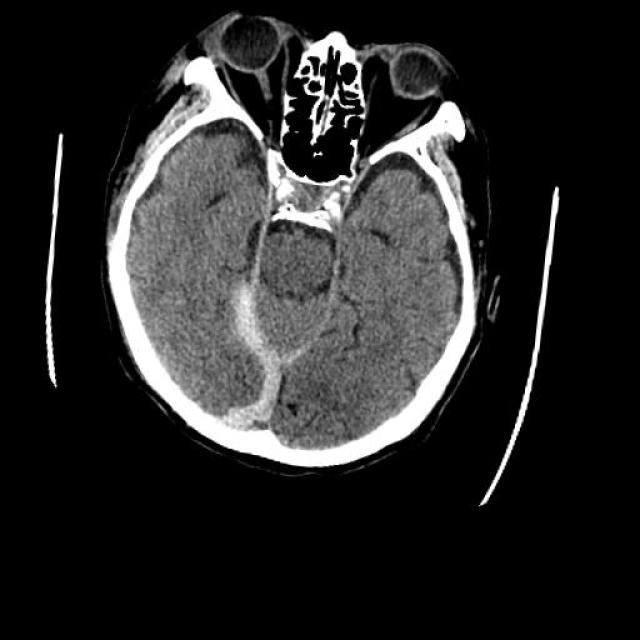Subdural: (207, 278, 328, 454)
